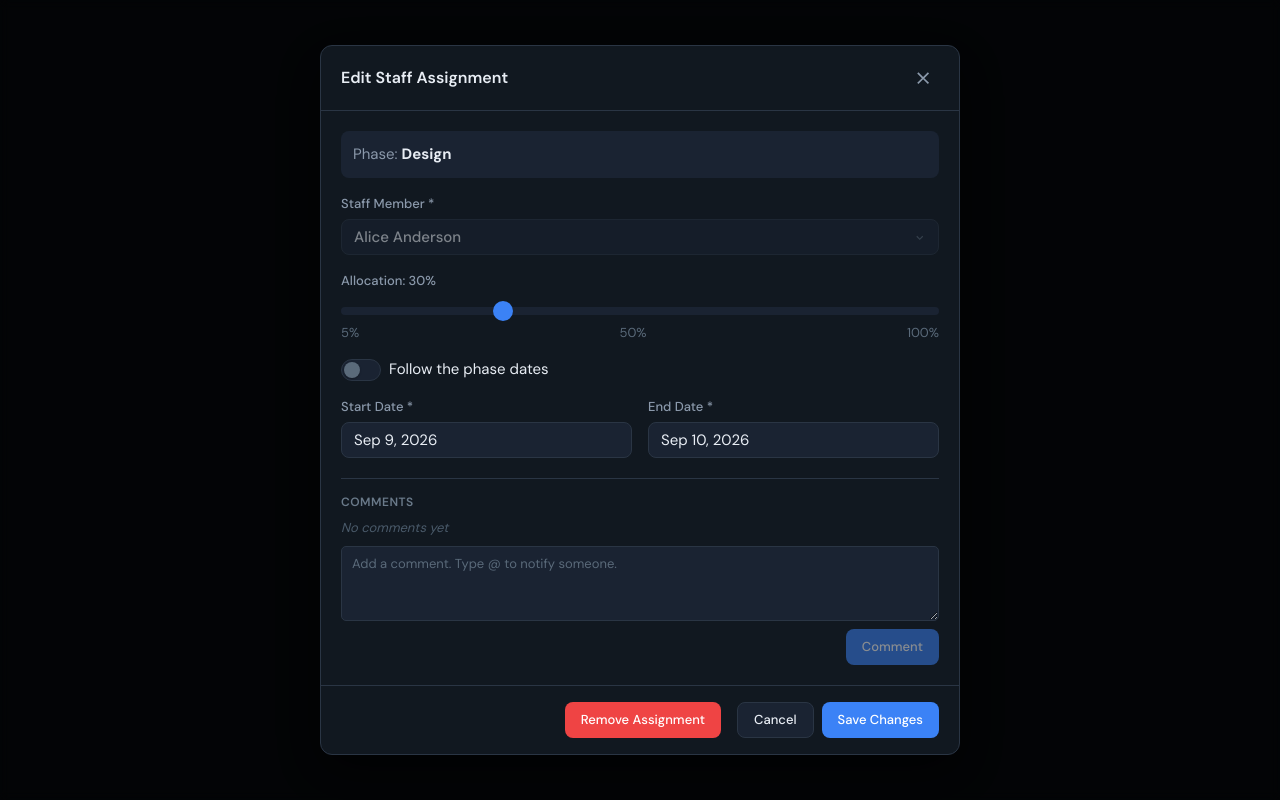
AssignmentModal: editing a phase booking › shows a refusal in place
The width and height of the screenshot is (1280, 800).
Click the button "Save Changes": coordinates (880, 720) x1=822 y1=702 x2=939 y2=738
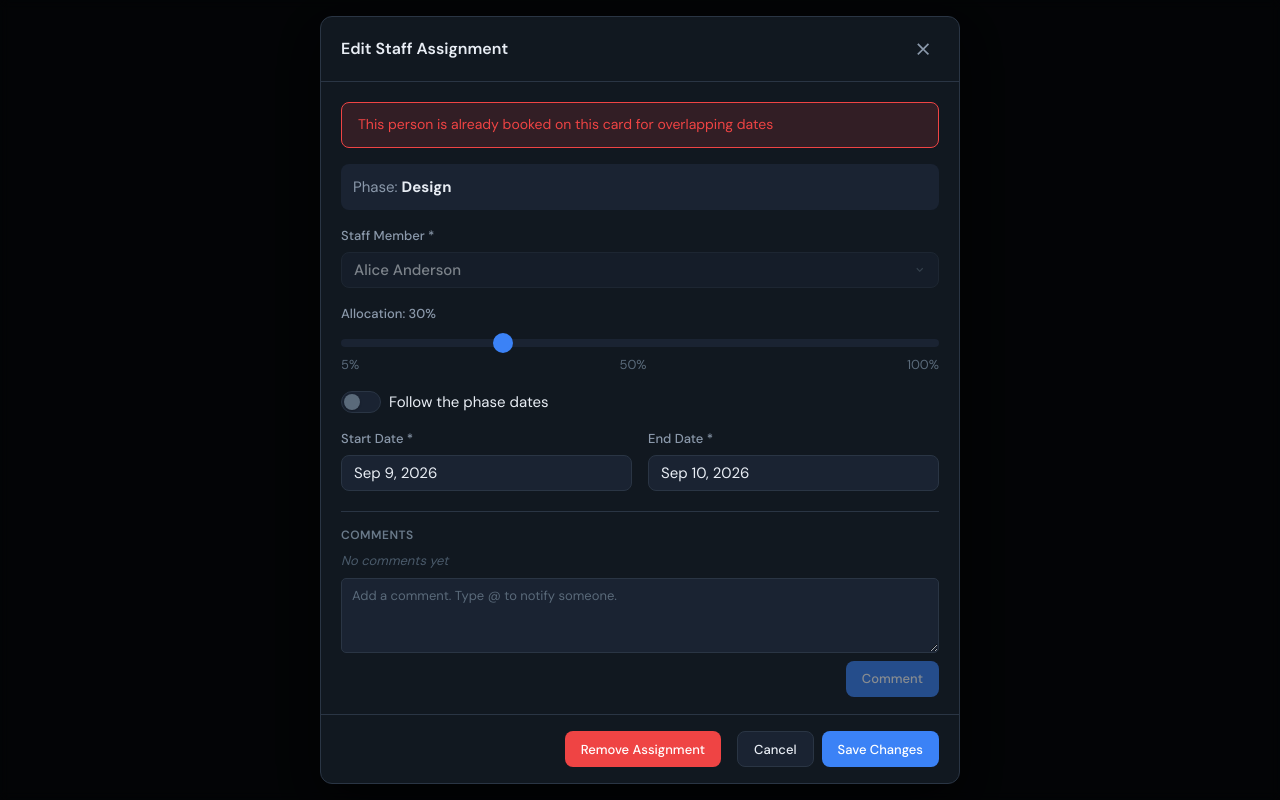
Check: the message reads "This person is already booked on this card for overlapping dates", box x1=358 y1=115 x2=773 y2=133
